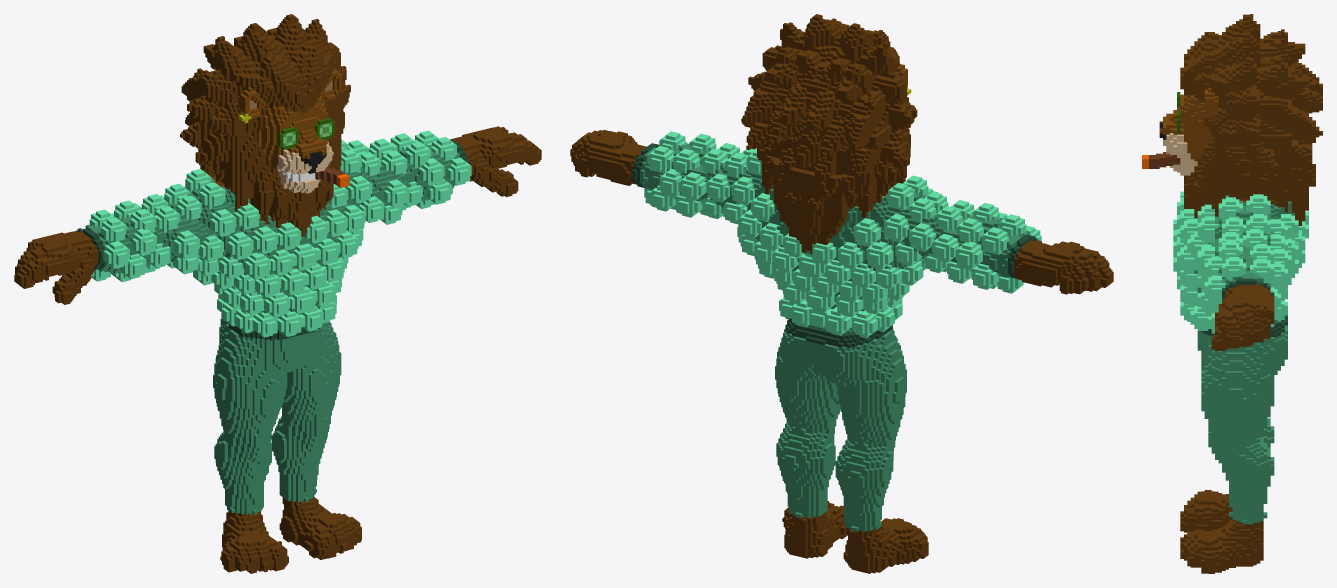
3 renders of one model, left to right at view 1: azimuth 30°, elevation 25°; view 2: azimuth 150°, elevation 25°; view 3: azimuth 270°, elevation 25°, orthographic. The views are drawn at different scales.
Visible parts, largest first — view 1: cigar; view 2: cigar; view 3: cigar.
Boxes of the visible parts, box(x1,y1,x2,y2) form: cigar: box(14, 14, 541, 573); cigar: box(570, 14, 1113, 573); cigar: box(1142, 14, 1322, 573).
Size of the model in its own units: 17.2 by 16.5 by 5.2.
Materials: 6 (6 with a texture image).
